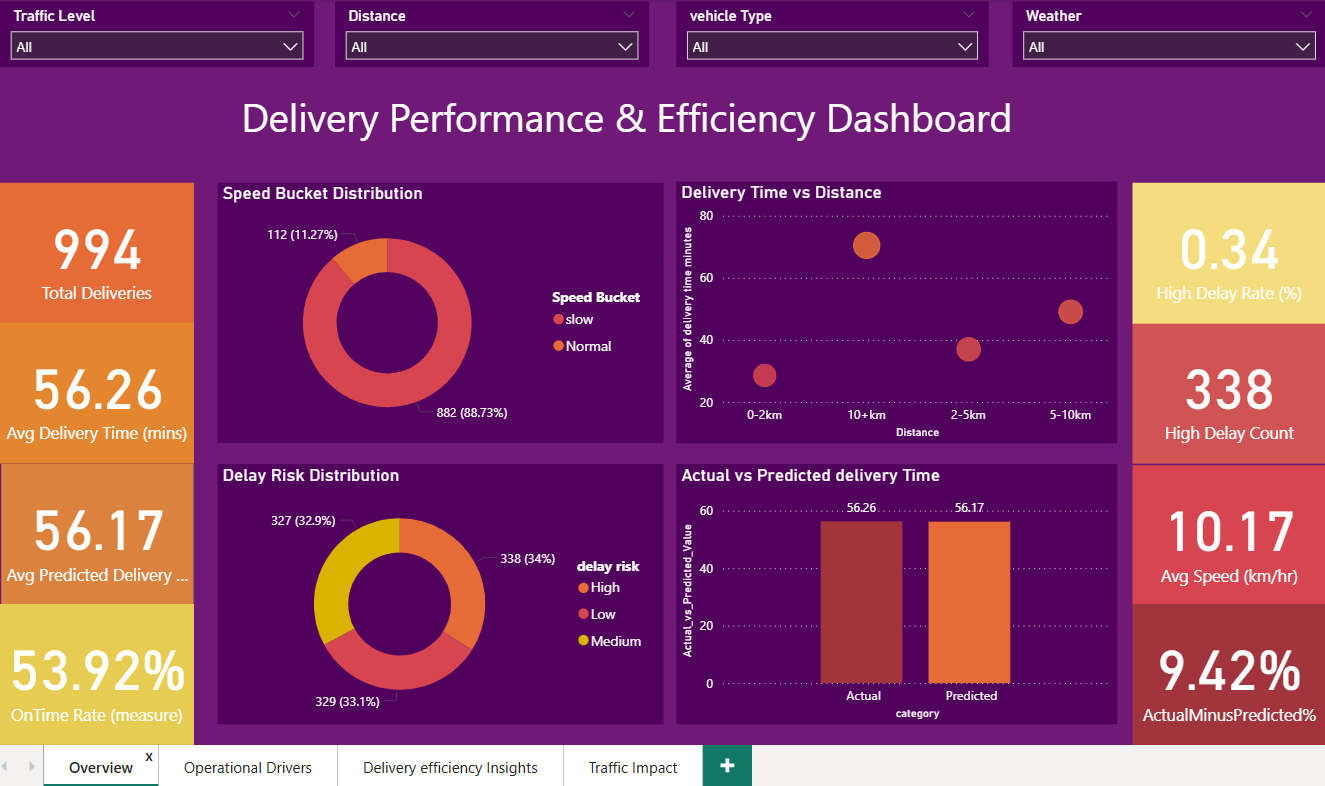

What the dashboard file says about the page in this screenshot:
{"tool":"powerbi","page":{"name":"Overview","canvas":[1280,720],"ordinal":0},"visuals":[{"type":"card","fields":{"Values":["zepto_delivery.Total Deliveries"]},"box":[0,177.1,187.1,135.7],"z":0},{"type":"card","fields":{"Values":["zepto_delivery.Avg Delivery Time (mins)"]},"box":[0,312.9,187.1,135.7],"z":1000},{"type":"card","fields":{"Values":["zepto_delivery.Avg Predicted Delivery Time"]},"box":[1.4,448.6,185.7,135.7],"z":2000},{"type":"card","fields":{"Values":["zepto_delivery.OnTime Rate (measure)"]},"box":[0,584.3,187.1,135.7],"z":3000},{"type":"card","fields":{"Values":["zepto_delivery.High Delay Count"]},"box":[1092.9,312.9,187.1,135.7],"z":4000},{"type":"card","fields":{"Values":["zepto_delivery.High Delay Rate (%)"]},"box":[1092.9,177.1,187.1,135.7],"z":5000},{"type":"card","fields":{"Values":["Traffic Impact %.Avg Speed (km/hr)"]},"box":[1092.9,450,187.1,135.7],"z":6000},{"type":"donutChart","title":"Speed Bucket Distribution","fields":{"Category":["zepto_delivery.Speed Bucket"],"Y":["CountNonNull(zepto_delivery.Order_ID)"]},"box":[210,177.1,430,251.4],"z":7000},{"type":"donutChart","title":"Delay Risk Distribution","fields":{"Category":["zepto_delivery.delay risk"],"Y":["zepto_delivery.Total Deliveries"]},"box":[210,448.6,430,251.4],"z":8000},{"type":"scatterChart","title":"Delivery Time vs Distance","fields":{"Y":["Avg(zepto_delivery.delivery time minutes)"],"X":["zepto_delivery.Distance bucket"],"Size":["Sum(zepto_delivery.abs error)"]},"box":[652.9,175.7,425.7,252.9],"z":9000},{"type":"columnChart","title":"Actual vs Predicted delivery Time","fields":{"Category":["comaprison table a/p.category"],"Y":["Actual VS Predicted.Actual_vs_Predicted_Value"]},"box":[652.9,448.6,425.7,251.4],"z":10000},{"type":"card","fields":{"Values":["Actual VS Predicted.ActualMinusPredicted (mins)"]},"box":[1092.9,584.3,187.1,135.7],"z":11000},{"type":"textbox","box":[228.6,82.9,827.1,64.3],"z":12000},{"type":"slicer","title":"Experience vs Avg Delivery Time","fields":{"Values":["zepto_delivery.Traffic Bucket"]},"box":[0,2.9,302.9,62.9],"z":13000},{"type":"slicer","title":"Experience vs Avg Delivery Time","fields":{"Values":["zepto_delivery.weather severity"]},"box":[977.1,2.9,302.9,62.9],"z":14000},{"type":"slicer","title":"Experience vs Avg Delivery Time","fields":{"Values":["zepto_delivery.Distance bucket"]},"box":[322.9,2.9,302.9,62.9],"z":15000},{"type":"slicer","title":"Experience vs Avg Delivery Time","fields":{"Values":["zepto_delivery.Vehicle Type"]},"box":[652.9,2.9,301.4,62.9],"z":16000}]}

Visuals, with their boxes on the page's 1280x720 design canvas (x1, y1, x2, y2). These are canvas units, not pixel positions in the 1325x786 screenshot, which may show the page scaled, cropped or inside an application window:
card - zepto_delivery.Total Deliveries: 0,177,187,313
card - zepto_delivery.Avg Delivery Time (mins): 0,313,187,449
card - zepto_delivery.Avg Predicted Delivery Time: 1,449,187,584
card - zepto_delivery.OnTime Rate (measure): 0,584,187,720
card - zepto_delivery.High Delay Count: 1093,313,1280,449
card - zepto_delivery.High Delay Rate (%): 1093,177,1280,313
card - Traffic Impact %.Avg Speed (km/hr): 1093,450,1280,586
"Speed Bucket Distribution" donutChart: 210,177,640,428
"Delay Risk Distribution" donutChart: 210,449,640,700
"Delivery Time vs Distance" scatterChart: 653,176,1079,429
"Actual vs Predicted delivery Time" columnChart: 653,449,1079,700
card - Actual VS Predicted.ActualMinusPredicted (mins): 1093,584,1280,720
textbox: 229,83,1056,147
"Experience vs Avg Delivery Time" slicer: 0,3,303,66
"Experience vs Avg Delivery Time" slicer: 977,3,1280,66
"Experience vs Avg Delivery Time" slicer: 323,3,626,66
"Experience vs Avg Delivery Time" slicer: 653,3,954,66
